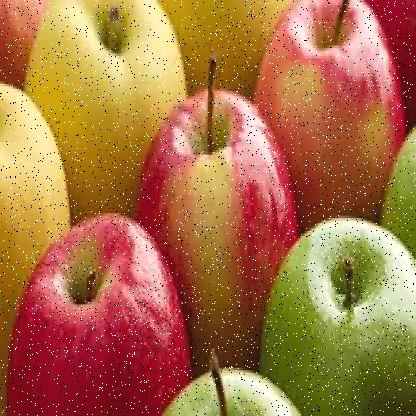apple: (135, 84, 301, 352), (22, 201, 182, 414), (27, 5, 192, 206), (268, 200, 414, 408), (266, 10, 402, 223)
